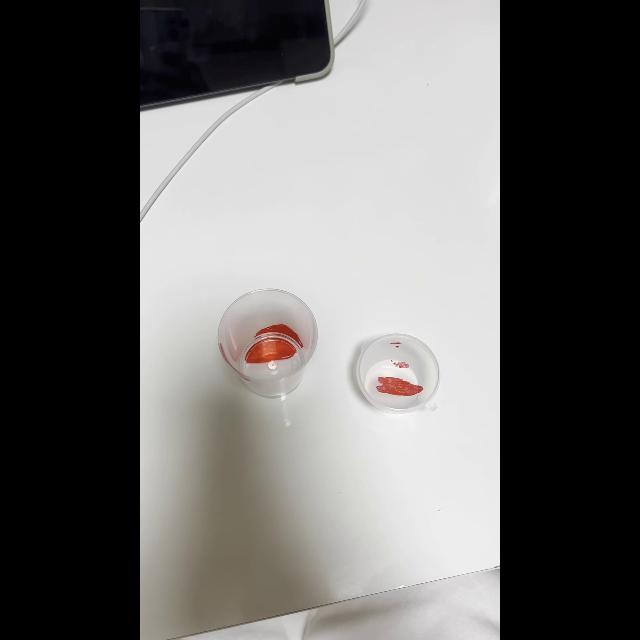dirty: (217, 288, 317, 396), (356, 334, 440, 414)
